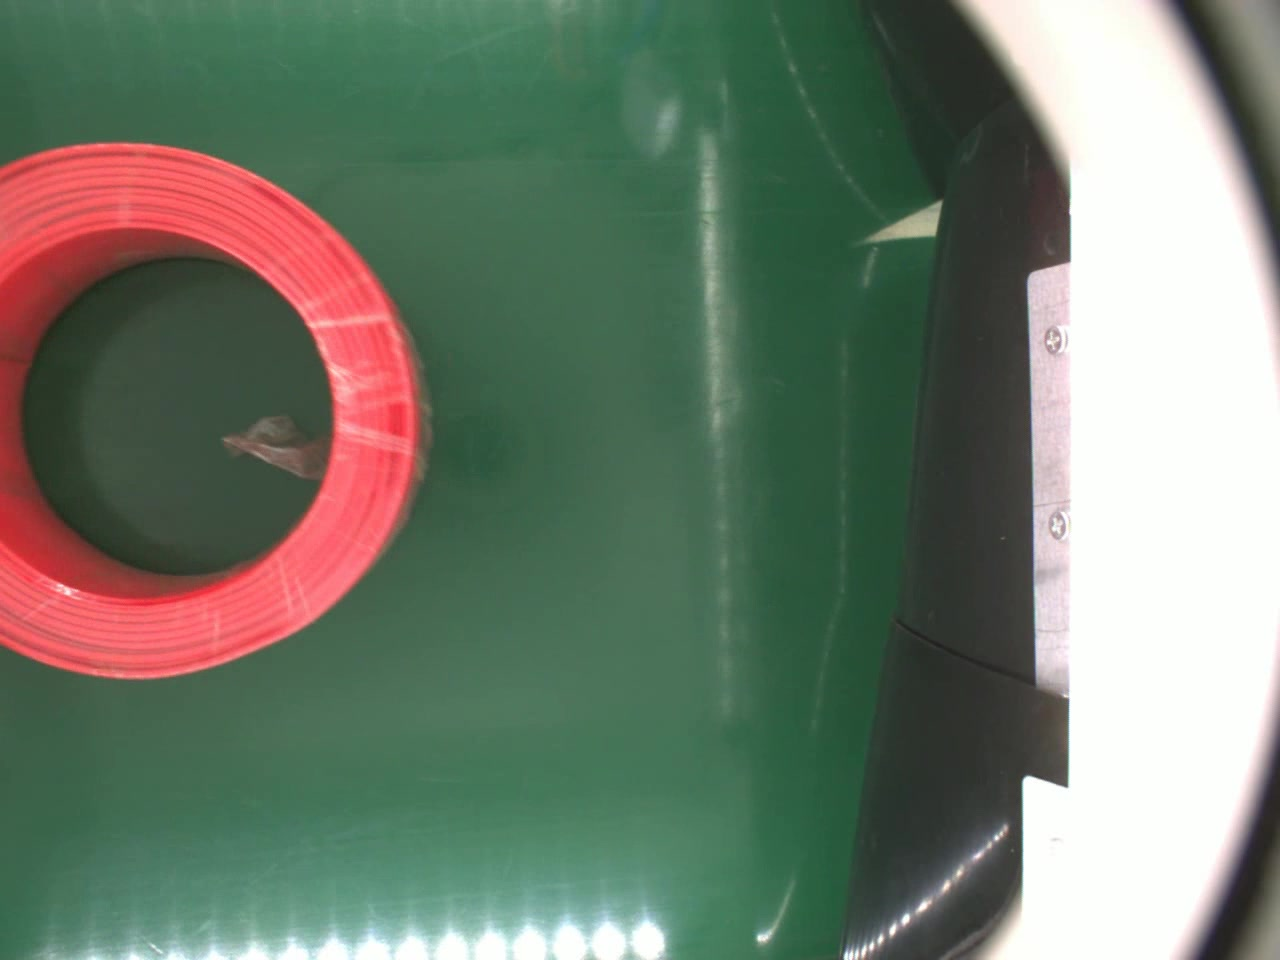red: (0, 136, 440, 684)
